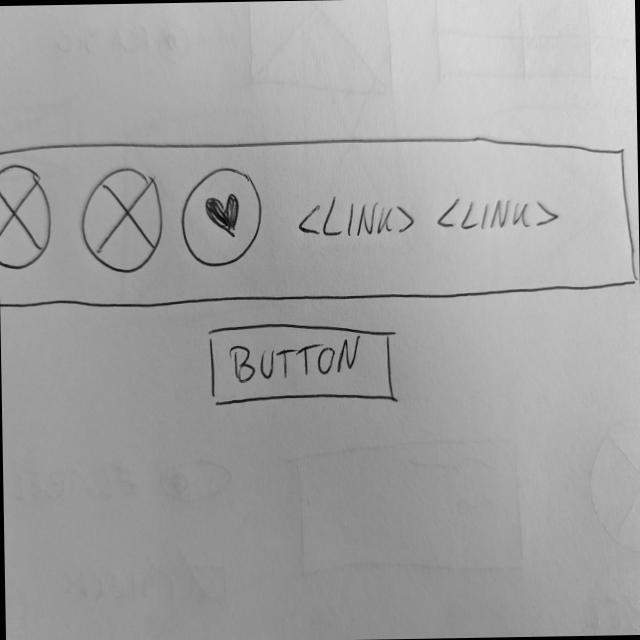button: (207, 320, 401, 412)
container: (1, 129, 640, 313)
icon-button: (177, 164, 265, 270)
image: (79, 166, 167, 278), (1, 162, 54, 270)
link: (296, 190, 417, 244), (435, 193, 565, 237)
